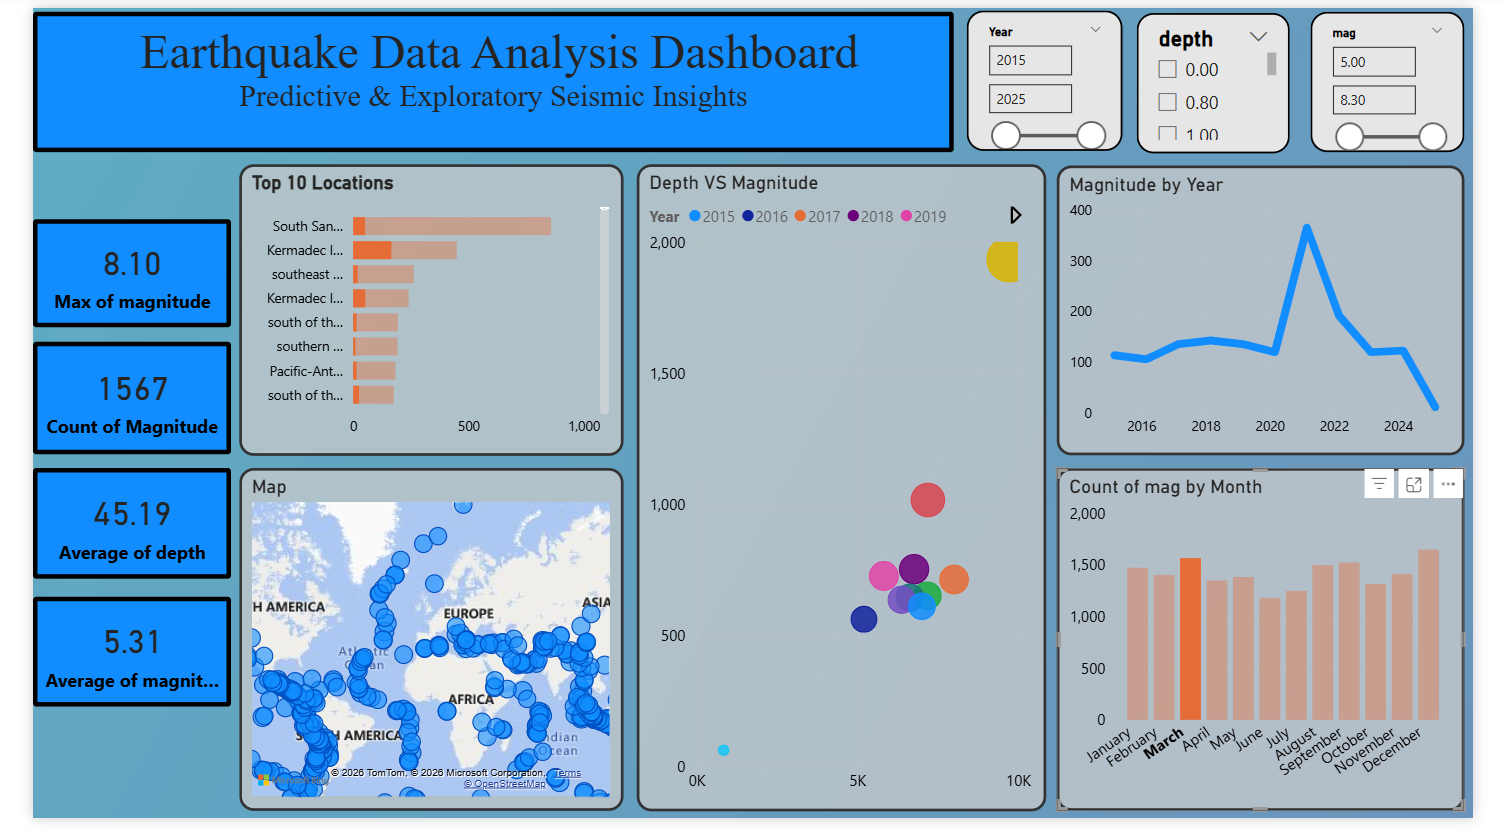

What the dashboard file says about the page in this screenshot:
{"tool":"powerbi","page":{"name":"Page 1","canvas":[1280,720],"ordinal":0},"visuals":[{"type":"card","fields":{"Values":["CountNonNull(EarthquakeBigDataAnalysis (1).mag)"]},"box":[0,296.4,175.6,100.2],"z":0},{"type":"card","fields":{"Values":["Avg(EarthquakeBigDataAnalysis (1).mag)"]},"box":[0,522.8,175.6,97.4],"z":1000},{"type":"card","fields":{"Values":["Max(EarthquakeBigDataAnalysis (1).mag)"]},"box":[0,188,175.6,96.1],"z":2000},{"type":"card","fields":{"Values":["Avg(EarthquakeBigDataAnalysis (1).depth)"]},"box":[0,408.9,175.6,98.8],"z":3000},{"type":"map","title":"Map","fields":{"Y":["EarthquakeBigDataAnalysis (1).latitude"],"X":["EarthquakeBigDataAnalysis (1).longitude"],"Size":["Sum(EarthquakeBigDataAnalysis (1).mag)"]},"box":[183.9,408.9,341.7,304.6],"z":4000},{"type":"scatterChart","title":"Depth VS Magnitude","fields":{"X":["Sum(EarthquakeBigDataAnalysis (1).depth)"],"Y":["Sum(EarthquakeBigDataAnalysis (1).mag)"],"Size":["Sum(EarthquakeBigDataAnalysis (1).mag)"],"Series":["EarthquakeBigDataAnalysis (1).time.Variation.Date Hierarchy.Year"]},"box":[536.5,138.6,363.6,575],"z":5000},{"type":"barChart","title":"Top 10 Locations","fields":{"Y":["CountNonNull(EarthquakeBigDataAnalysis (1).mag)"],"Category":["EarthquakeBigDataAnalysis (1).place"]},"box":[183.9,138.6,341.7,259.3],"z":6000},{"type":"lineChart","title":"Magnitude by Year","fields":{"Category":["EarthquakeBigDataAnalysis (1).time.Variation.Date Hierarchy.Year"],"Y":["CountNonNull(EarthquakeBigDataAnalysis (1).mag)"]},"box":[909.8,140,362.3,258],"z":7000},{"type":"columnChart","fields":{"Y":["CountNonNull(EarthquakeBigDataAnalysis (1).mag)"],"Category":["EarthquakeBigDataAnalysis (1).time.Variation.Date Hierarchy.Month"]},"box":[909.8,408.9,362.3,304.6],"z":8000},{"type":"slicer","fields":{"Values":["EarthquakeBigDataAnalysis (1).depth"]},"box":[981.1,4.1,135.8,124.9],"z":9000},{"type":"slicer","fields":{"Values":["EarthquakeBigDataAnalysis (1).mag"]},"box":[1135,3.3,136.7,125],"z":10000},{"type":"slicer","fields":{"Values":["EarthquakeBigDataAnalysis (1).time.Variation.Date Hierarchy.Year"]},"box":[830.2,2.7,138.6,124.9],"z":11000},{"type":"textbox","box":[0,3.3,818.3,125],"z":12000}]}

Visuals, with their boxes in screenshot pixels (x1, y1, x2, y2), scaled from the page's 1280x720 canvas onto the 1508x832 screenshot:
card - CountNonNull(EarthquakeBigDataAnalysis (1).mag): (0,343,207,458)
card - Avg(EarthquakeBigDataAnalysis (1).mag): (0,604,207,717)
card - Max(EarthquakeBigDataAnalysis (1).mag): (0,217,207,328)
card - Avg(EarthquakeBigDataAnalysis (1).depth): (0,473,207,587)
"Map" map: (217,473,619,824)
"Depth VS Magnitude" scatterChart: (632,160,1060,825)
"Top 10 Locations" barChart: (217,160,619,460)
"Magnitude by Year" lineChart: (1072,162,1499,460)
columnChart - CountNonNull(EarthquakeBigDataAnalysis (1).mag) x EarthquakeBigDataAnalysis (1).time.Variation.Date Hierarchy.Month: (1072,473,1499,824)
slicer - EarthquakeBigDataAnalysis (1).depth: (1156,5,1316,149)
slicer - EarthquakeBigDataAnalysis (1).mag: (1337,4,1498,148)
slicer - EarthquakeBigDataAnalysis (1).time.Variation.Date Hierarchy.Year: (978,3,1141,147)
textbox: (0,4,964,148)
